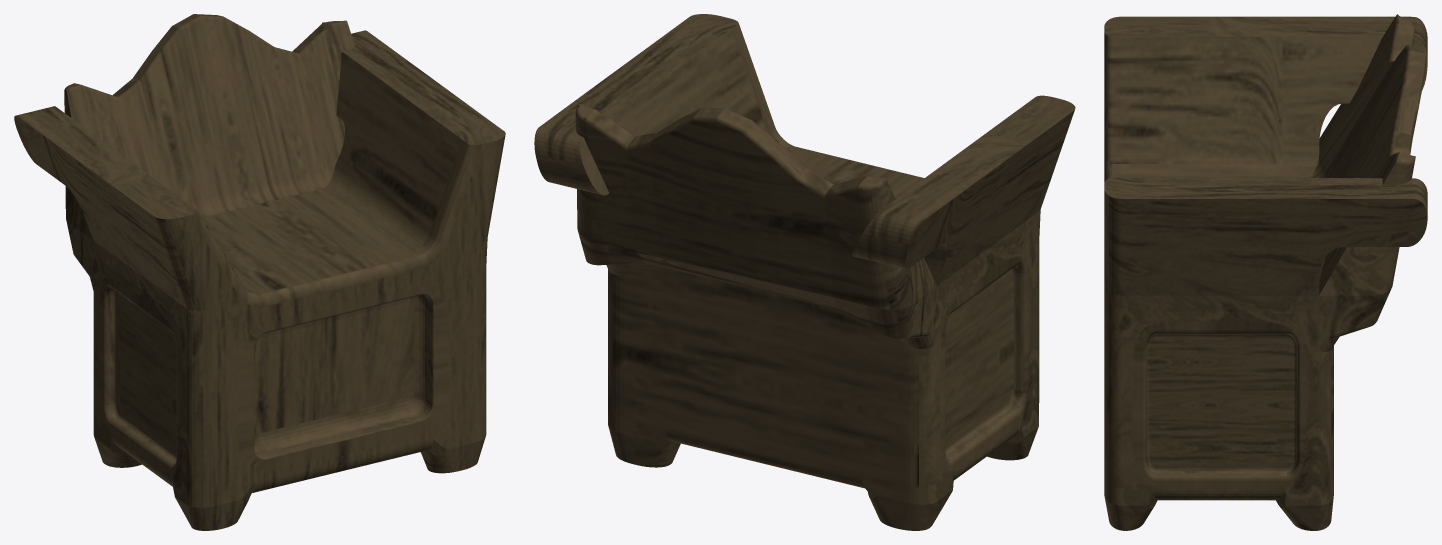
Rendered from chair.gltf.
3 renders of one model, left to right at view 1: azimuth 30°, elevation 25°; view 2: azimuth 150°, elevation 25°; view 3: azimuth 270°, elevation 25°, orthographic. The views are drawn at different scales.
Parts seen in each view (by area): view 1: Cube; view 2: Cube; view 3: Cube.
Boxes of the visible parts, box(x1,y1,x2,y2) form: Cube: box(14, 14, 505, 530); Cube: box(534, 14, 1075, 530); Cube: box(1104, 14, 1427, 530).
Bounding box in the file's own units: 1.19 × 1.24 × 0.8918.
1 material, 1 textured.
